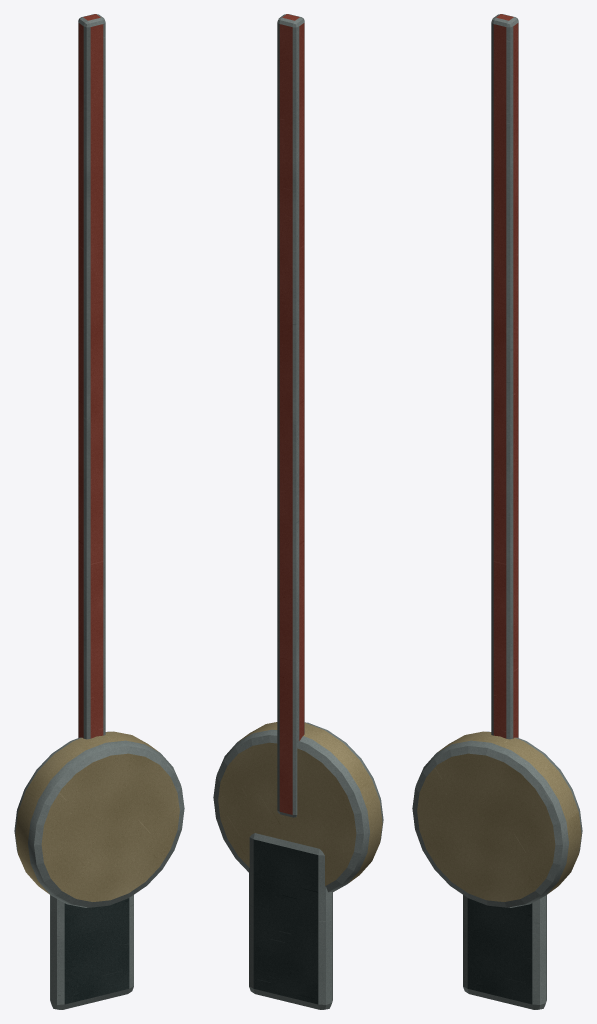
Rendered from Gauge_Needle.fbx.
The picture shows the model from 3 angles, left to right: view 1: azimuth 30°, elevation 25°; view 2: azimuth 150°, elevation 25°; view 3: azimuth 330°, elevation 25°; orthographic projection.
Parts seen in each view (by area): view 1: Gauge_Needle__Visual; view 2: Gauge_Needle__Visual; view 3: Gauge_Needle__Visual.
Boxes of the visible parts, x1=… form: Gauge_Needle__Visual: x1=14, y1=14, x2=184, y2=1009; Gauge_Needle__Visual: x1=213, y1=14, x2=383, y2=1009; Gauge_Needle__Visual: x1=412, y1=14, x2=582, y2=1009.
Bounding box in the file's own units: 0.036 × 0.2175 × 0.0095.
